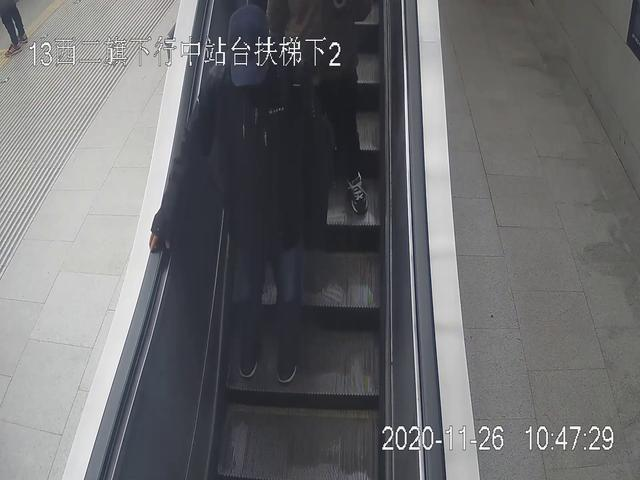person: (148, 5, 329, 382)
